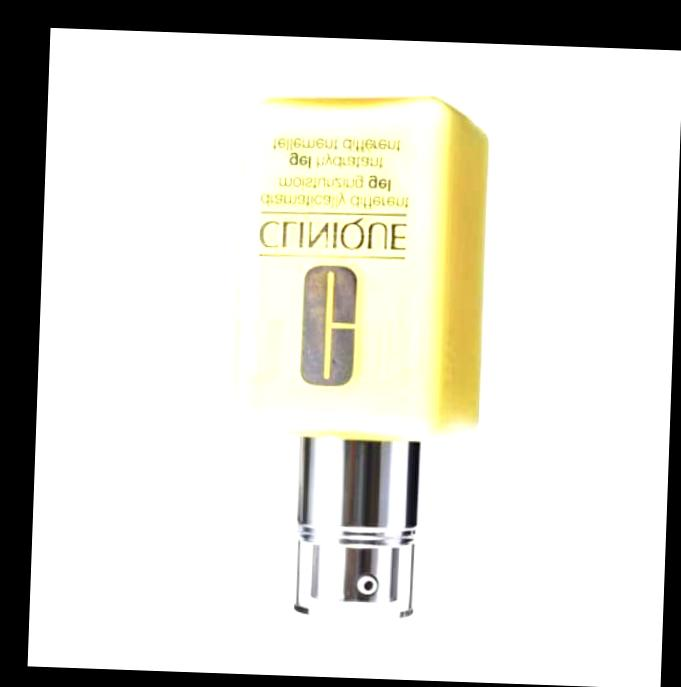cosmetic: (223, 94, 491, 628)
